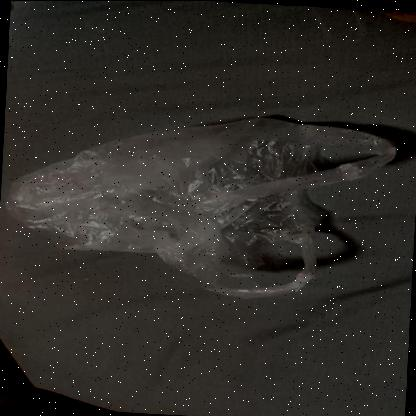Others: (3, 115, 393, 295)
